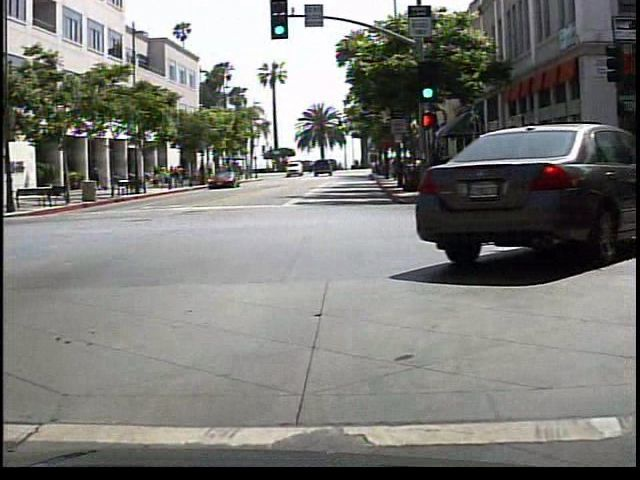person: (86, 160, 104, 192)
